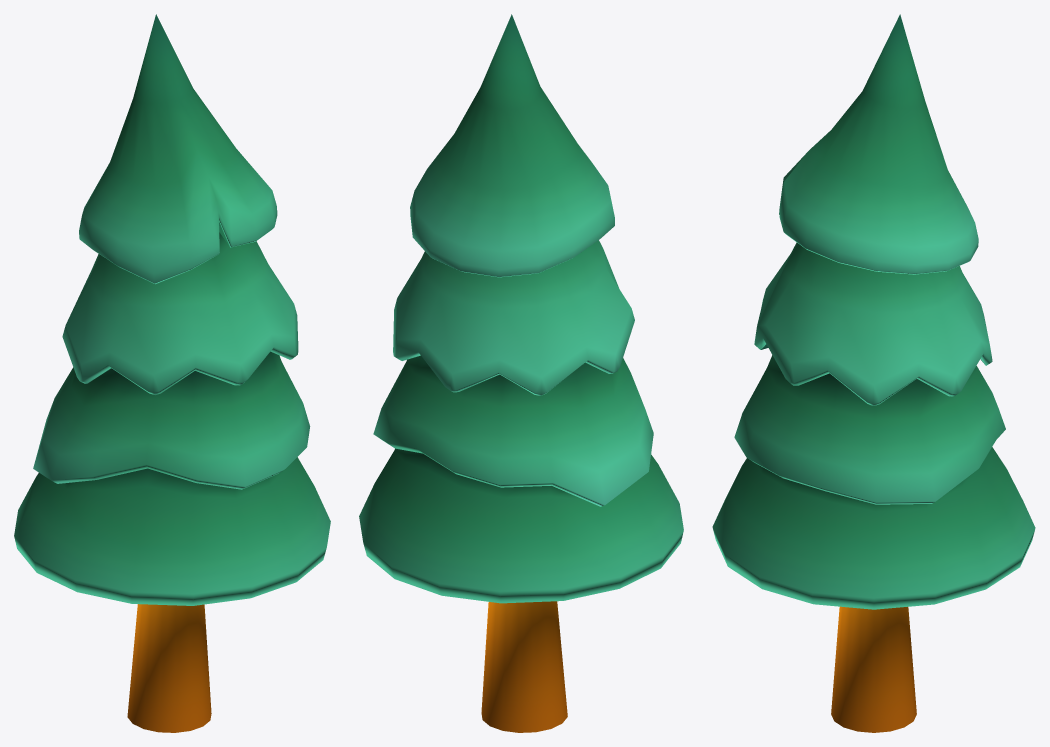
File: Cristmas_Tree6.fbx
The picture shows the model from 3 angles, left to right: view 1: azimuth 30°, elevation 25°; view 2: azimuth 150°, elevation 25°; view 3: azimuth 270°, elevation 25°; orthographic projection. The views are drawn at different scales.
Parts seen in each view (by area): view 1: Cristmas_Tree6; view 2: Cristmas_Tree6; view 3: Cristmas_Tree6.
Boxes of the visible parts, x1,y1,x2,y2 form: Cristmas_Tree6: (14, 14, 330, 732); Cristmas_Tree6: (359, 14, 683, 732); Cristmas_Tree6: (712, 14, 1035, 732).
Bounding box in the file's own units: 202 × 485 × 203.
